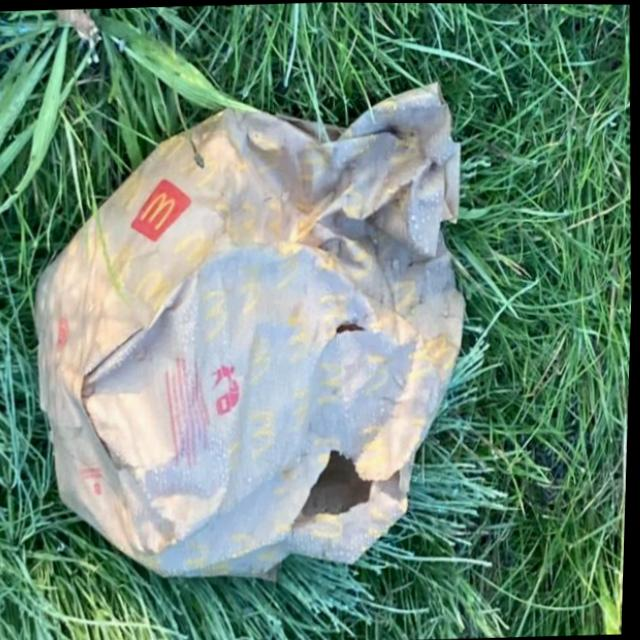Paper: (19, 73, 484, 595)
